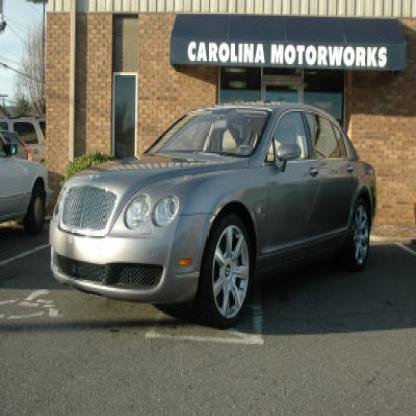Vehicle: (50, 104, 377, 328)
